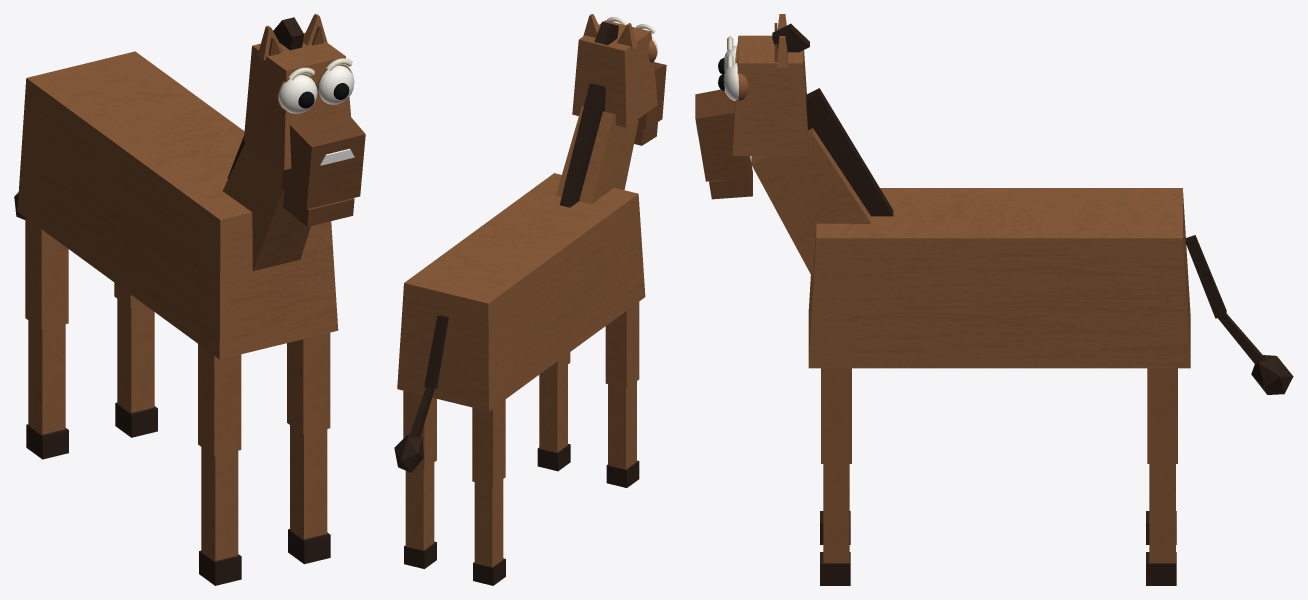
Rendered from horse.glb.
3 renders of one model, left to right at view 1: azimuth 30°, elevation 25°; view 2: azimuth 150°, elevation 25°; view 3: azimuth 270°, elevation 25°, orthographic. The views are drawn at different scales.
Parts seen in each view (by area): view 1: body, head, neck, kneeBR, kneeFR, kneeFL, kneeBL, legFR, legFL, legBR, jaw, earR (+1 smaller); view 2: body, head, neck, kneeBR, kneeBL, kneeFR, kneeFL, legBR, legFR, legBL, tail2, tail; view 3: body, head, neck, kneeFL, kneeBL, legFL, legBL, tail2, tail, jaw.
Part boxes in pixels (x1=…): body: x1=17, y1=51, x2=338, y2=359; head: x1=243, y1=17, x2=365, y2=209; neck: x1=223, y1=135, x2=310, y2=270; kneeBR: x1=26, y1=320, x2=68, y2=459; kneeFR: x1=199, y1=447, x2=241, y2=585; kneeFL: x1=288, y1=425, x2=330, y2=564; kneeBL: x1=115, y1=299, x2=157, y2=437; legFR: x1=198, y1=344, x2=241, y2=456; legFL: x1=287, y1=332, x2=330, y2=434; legBR: x1=25, y1=217, x2=68, y2=329; jaw: x1=283, y1=191, x2=354, y2=226; earR: x1=257, y1=25, x2=283, y2=60; body: x1=397, y1=173, x2=645, y2=411; head: x1=572, y1=17, x2=666, y2=129; neck: x1=556, y1=83, x2=638, y2=207; kneeBR: x1=473, y1=479, x2=505, y2=585; kneeBL: x1=404, y1=462, x2=436, y2=568; kneeFR: x1=606, y1=381, x2=639, y2=487; kneeFL: x1=537, y1=365, x2=570, y2=471; legBR: x1=472, y1=399, x2=505, y2=486; legFR: x1=605, y1=302, x2=639, y2=388; legBL: x1=403, y1=390, x2=436, y2=469; tail2: x1=394, y1=387, x2=434, y2=472; tail: x1=424, y1=315, x2=448, y2=388; body: x1=808, y1=188, x2=1190, y2=368; head: x1=695, y1=23, x2=809, y2=181; neck: x1=751, y1=88, x2=893, y2=277; kneeFL: x1=820, y1=464, x2=850, y2=585; kneeBL: x1=1146, y1=464, x2=1176, y2=585; legFL: x1=821, y1=368, x2=851, y2=463; legBL: x1=1147, y1=368, x2=1177, y2=463; tail2: x1=1218, y1=314, x2=1293, y2=394; tail: x1=1185, y1=235, x2=1226, y2=318; jaw: x1=709, y1=156, x2=752, y2=199.
Size of the model in its own units: 0.44 by 2 by 2.04.
21 materials, 18 textured.
